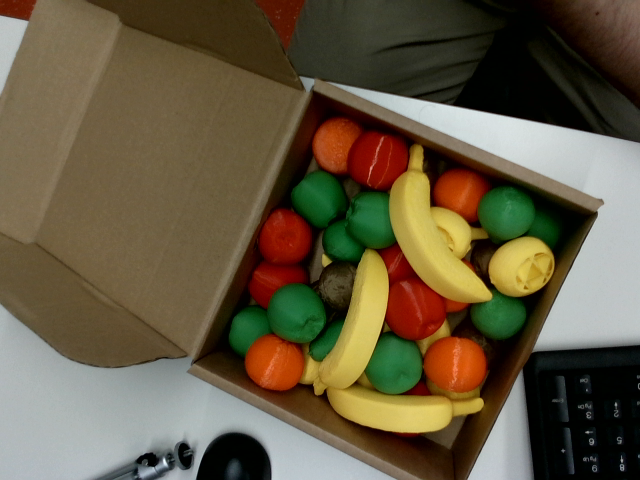banana: (359, 141, 505, 325), (310, 246, 407, 407), (322, 381, 484, 441)
green apple: (255, 272, 338, 355), (282, 162, 358, 237), (359, 328, 432, 403), (464, 279, 535, 350), (471, 178, 542, 246), (313, 216, 369, 274), (346, 192, 395, 248)
lemon: (477, 224, 565, 309), (421, 191, 488, 260)
orange: (236, 327, 312, 399), (419, 332, 491, 396), (425, 159, 494, 225), (304, 109, 365, 178)
red apple: (369, 267, 455, 352), (249, 202, 322, 276), (239, 244, 313, 311), (342, 126, 412, 195)
walnut: (308, 253, 368, 315)
